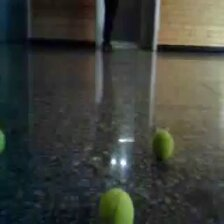tennis: (98, 187, 133, 224), (151, 129, 175, 163)
